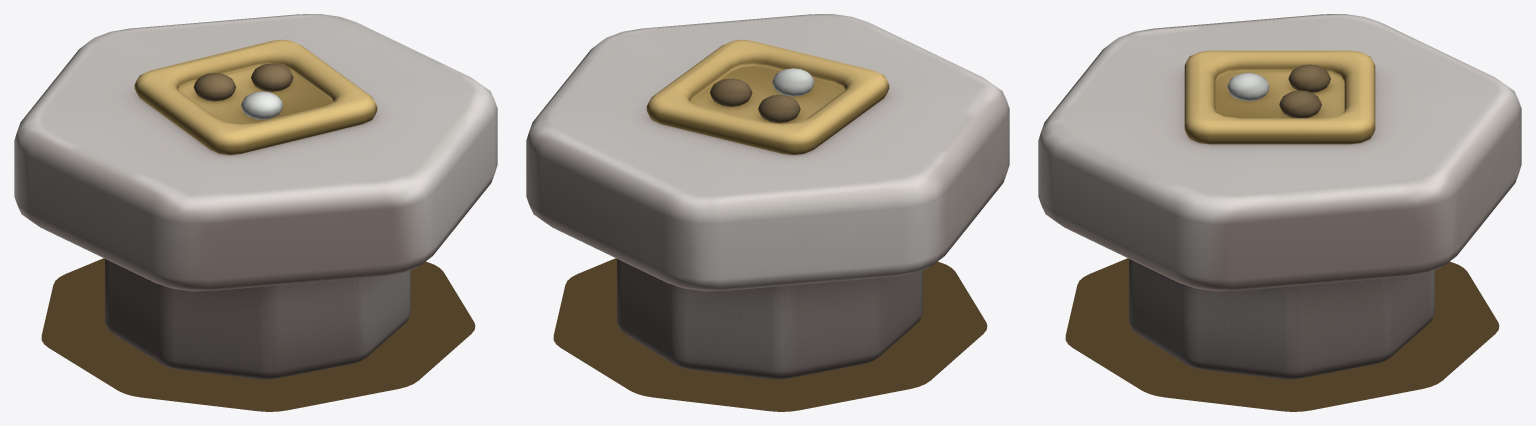
The model's file is RockTable01.fbx.
The picture shows the model from 3 angles, left to right: view 1: azimuth 30°, elevation 25°; view 2: azimuth 150°, elevation 25°; view 3: azimuth 270°, elevation 25°; orthographic projection.
Visible parts, largest first — view 1: polySurface6, polySurface1, polySurface3; view 2: polySurface6, polySurface1, polySurface3; view 3: polySurface6, polySurface1, polySurface3.
Boxes of the visible parts, x1,y1,x2,y2 form: polySurface6: (14, 14, 497, 379); polySurface1: (41, 258, 475, 411); polySurface3: (134, 39, 377, 154); polySurface6: (526, 14, 1009, 379); polySurface1: (553, 258, 987, 411); polySurface3: (646, 39, 889, 154); polySurface6: (1038, 14, 1521, 379); polySurface1: (1065, 258, 1499, 411); polySurface3: (1184, 50, 1375, 144).
Bounding box in the file's own units: 183 × 103 × 189.
